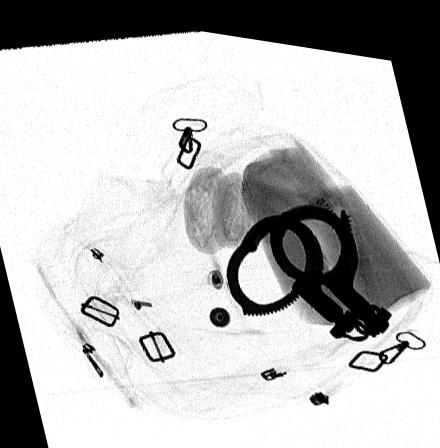HandCuffs: (225, 192, 391, 328)
